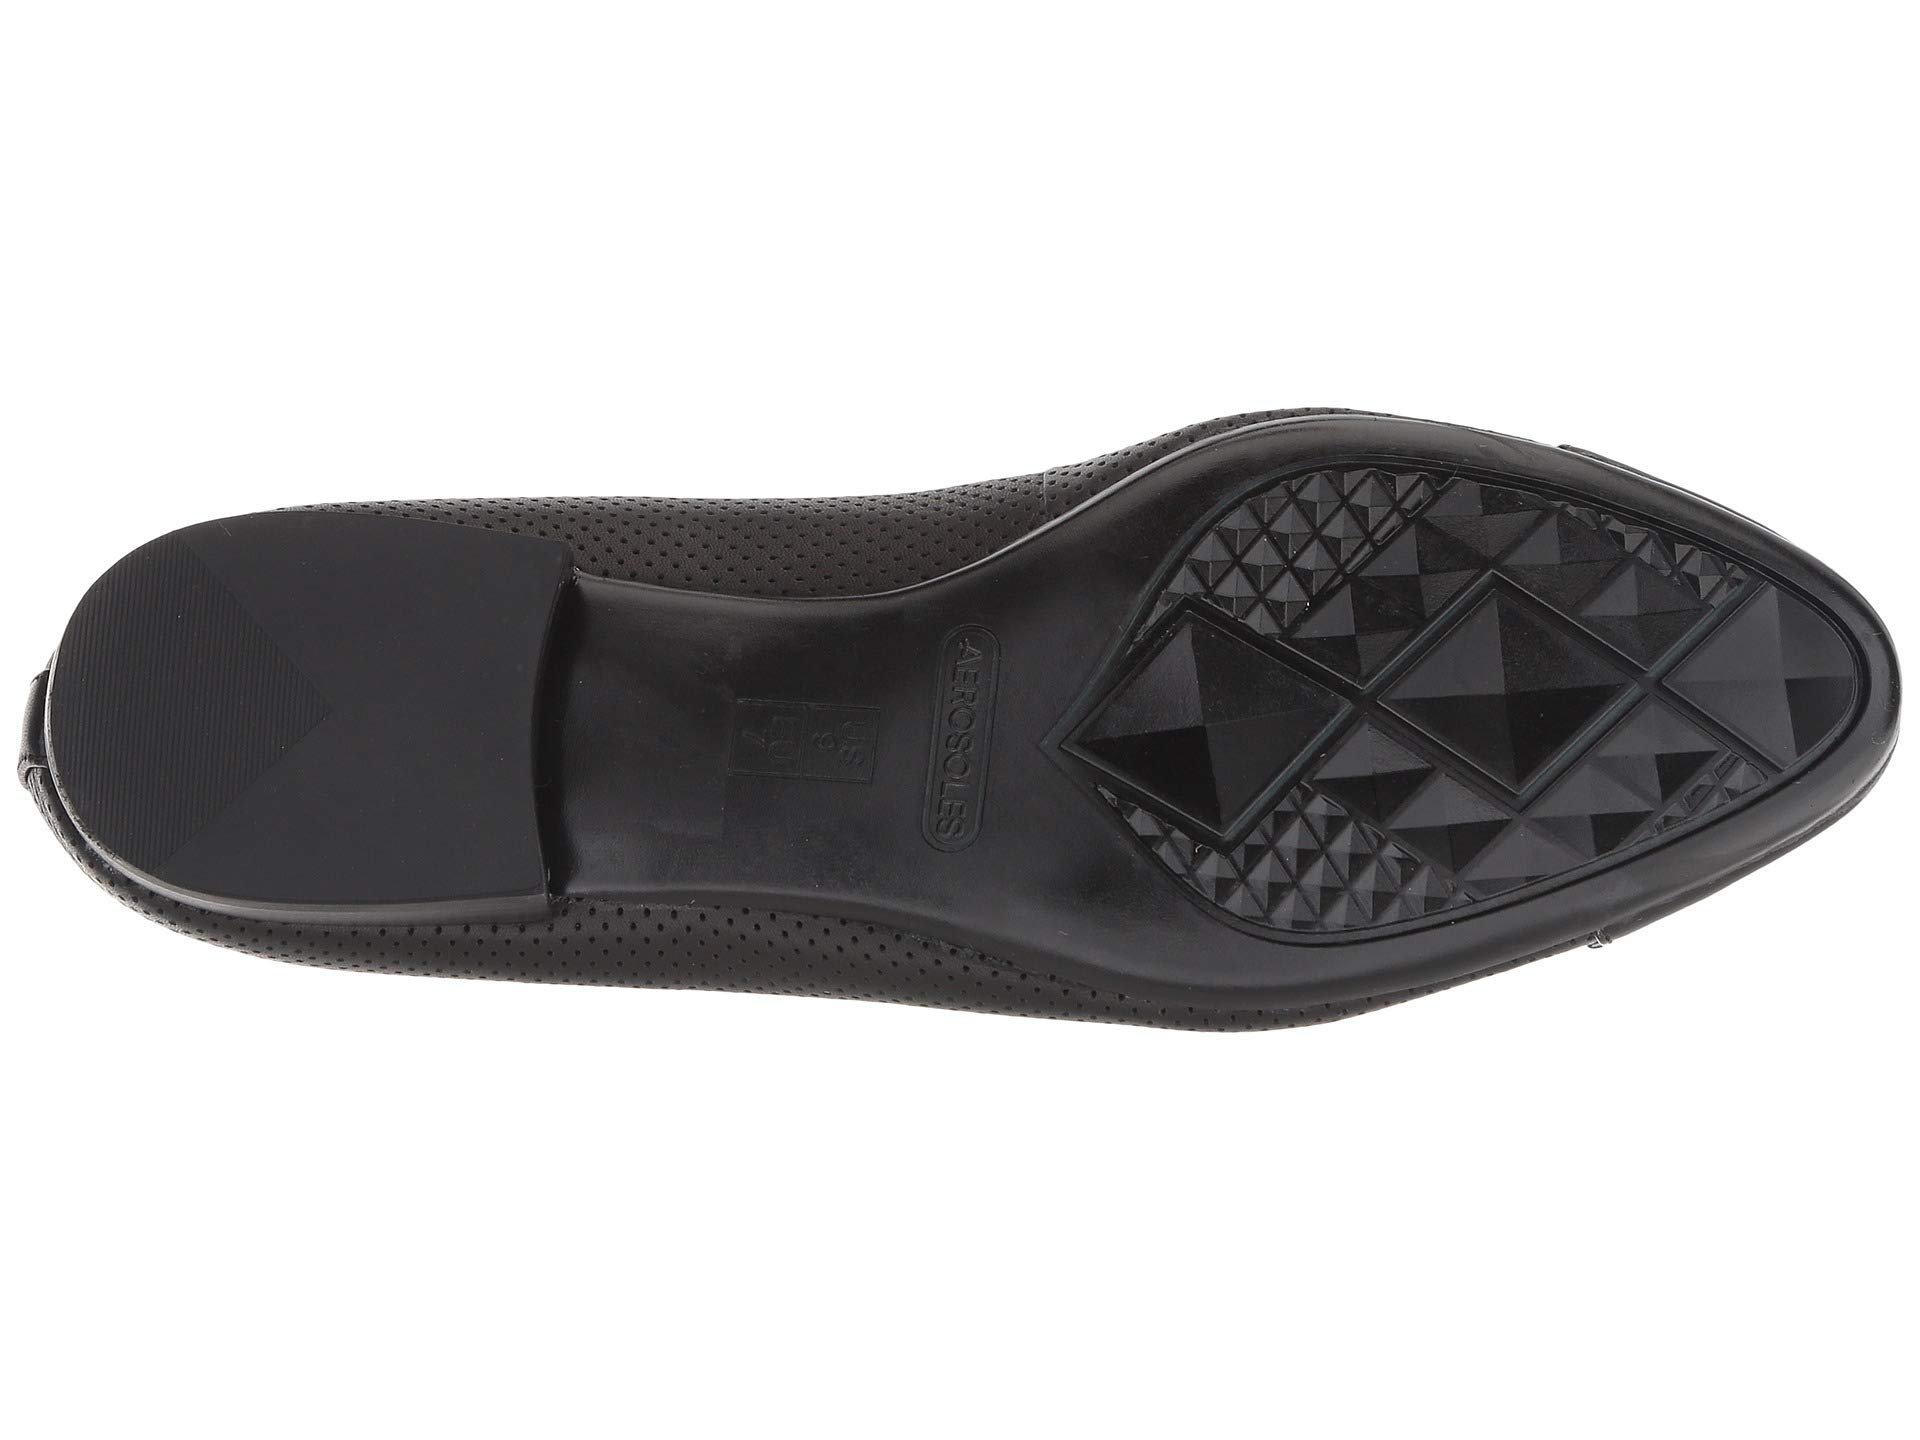quad: (1188, 511, 1574, 959)
triangle: (1188, 511, 1574, 959)
